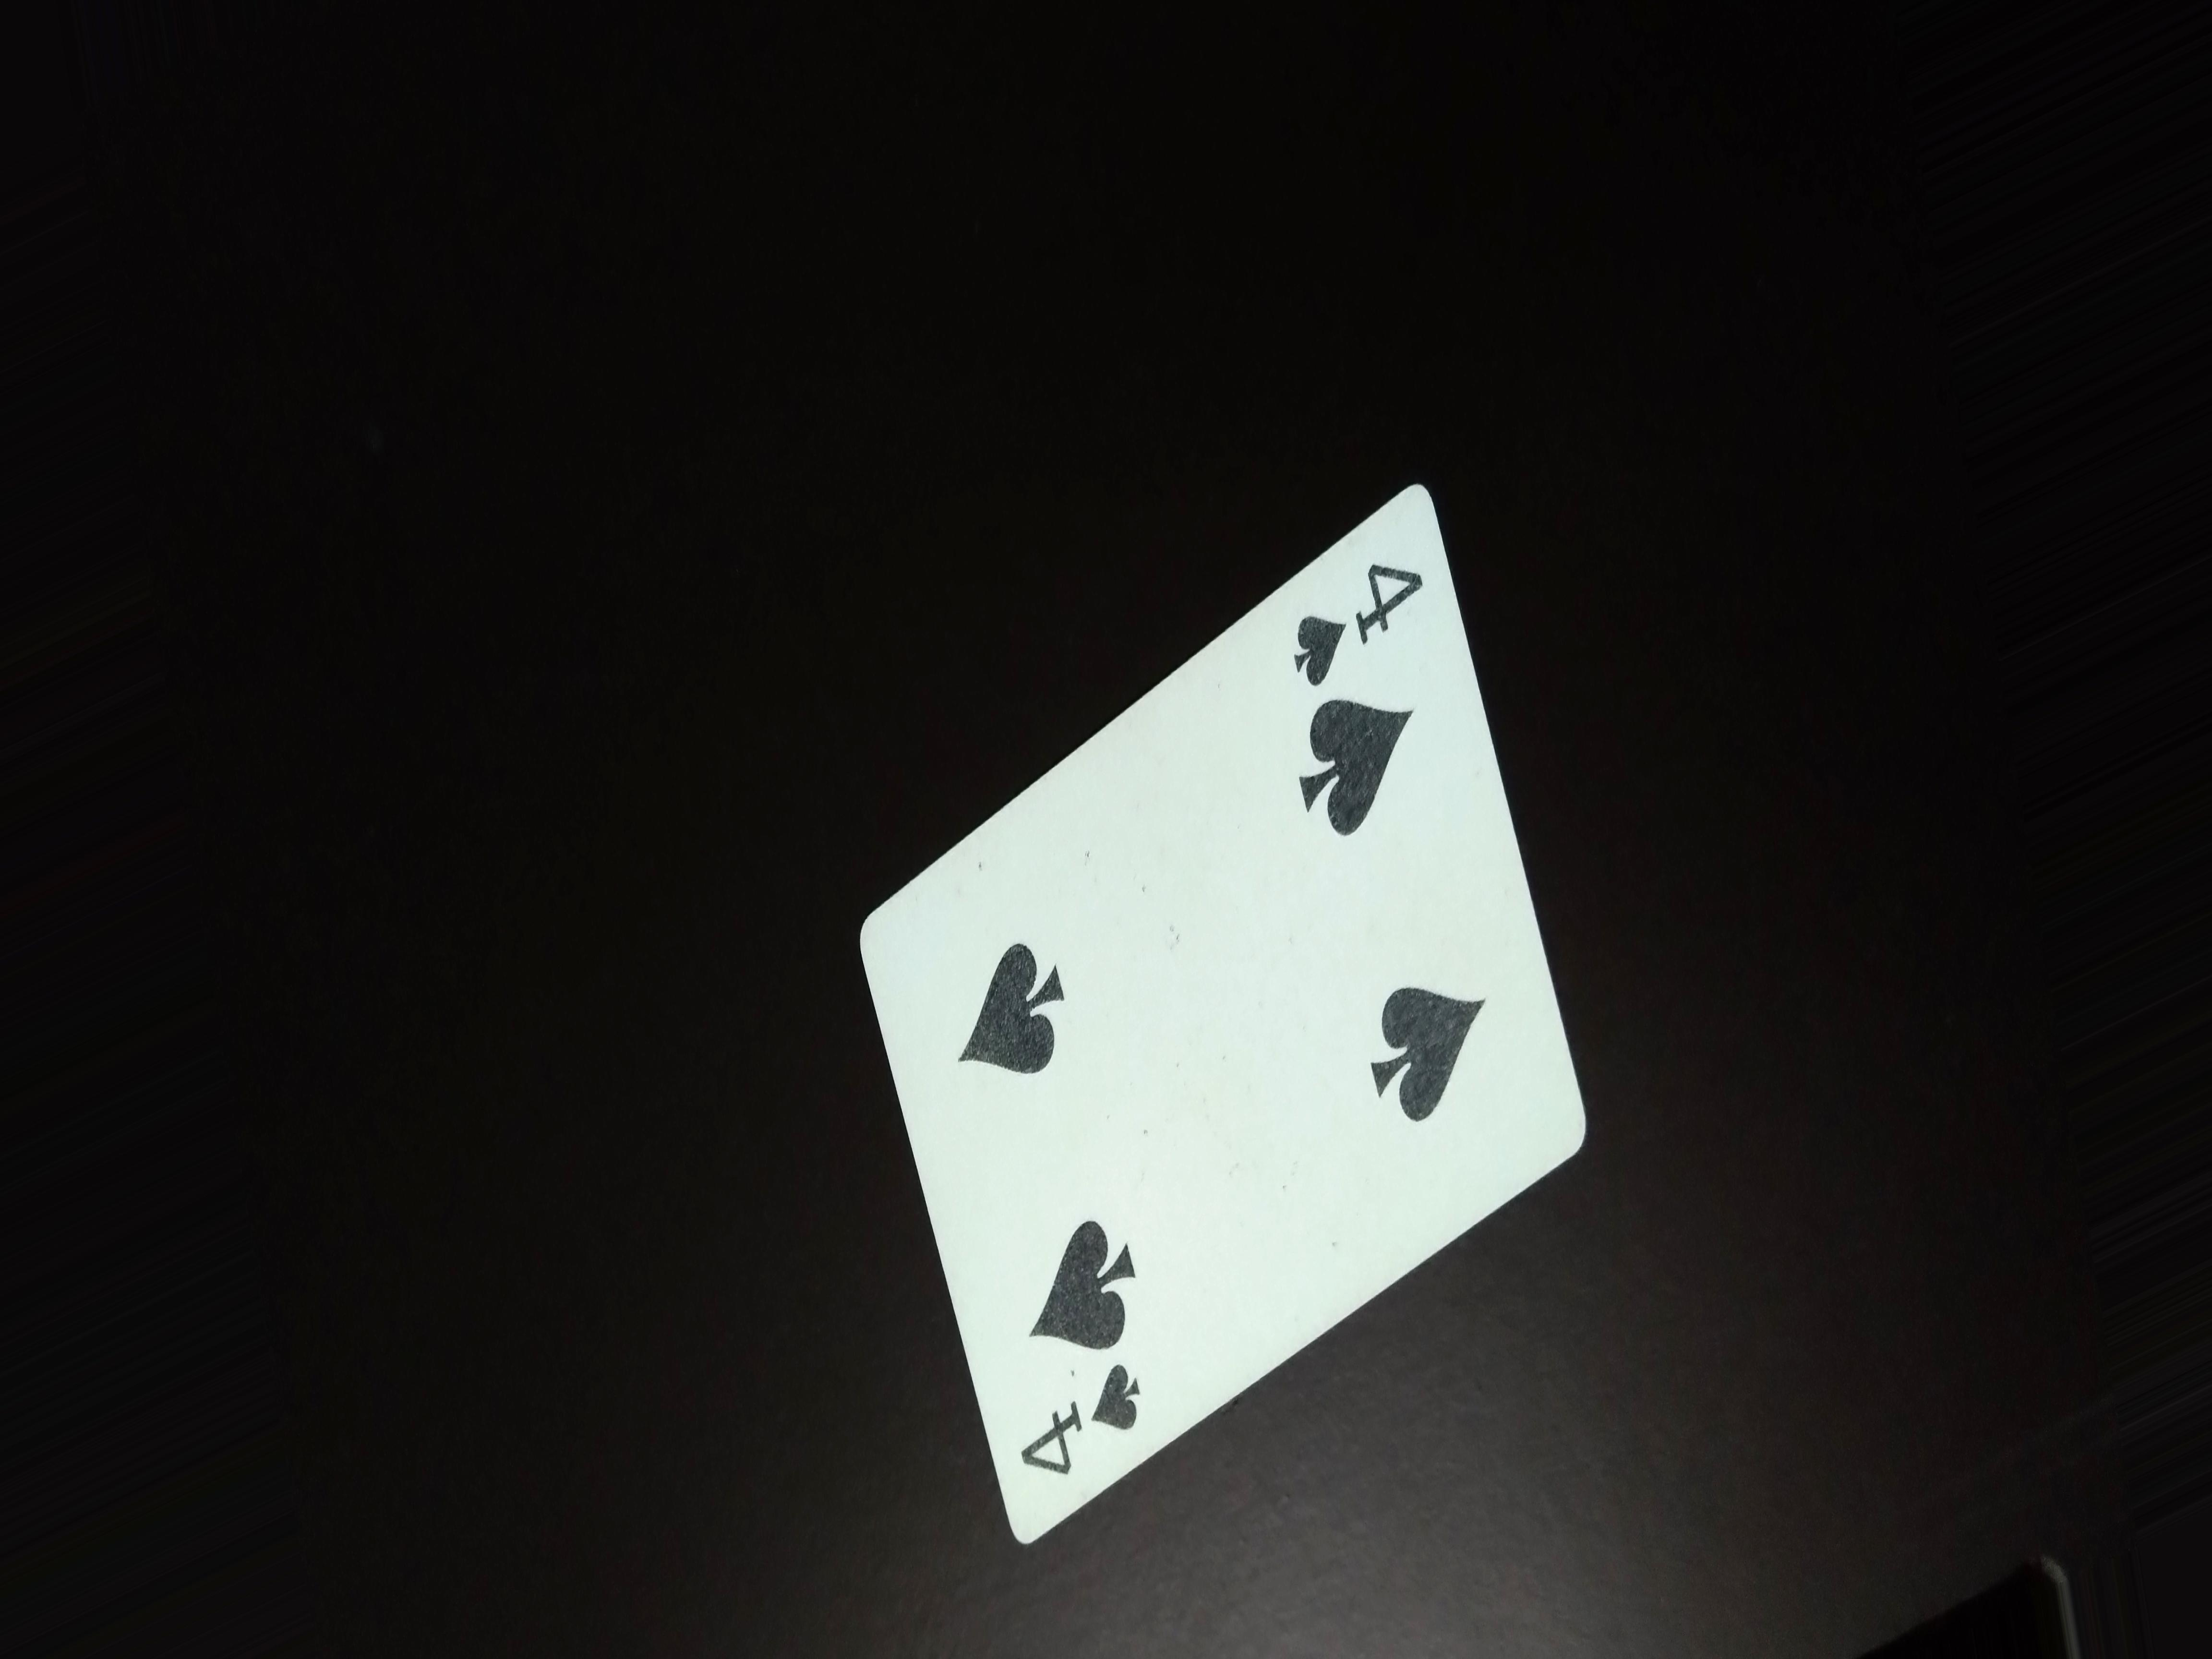4S: (1007, 1358, 1172, 1492)
